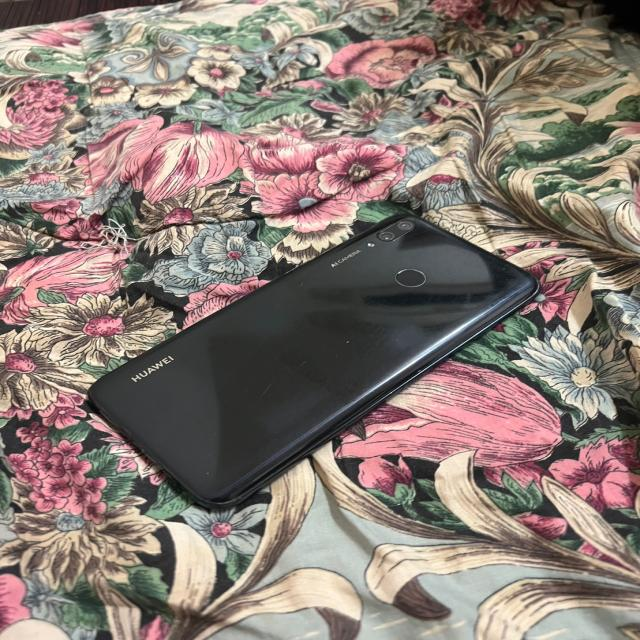Smartphone: (88, 215, 540, 509)
